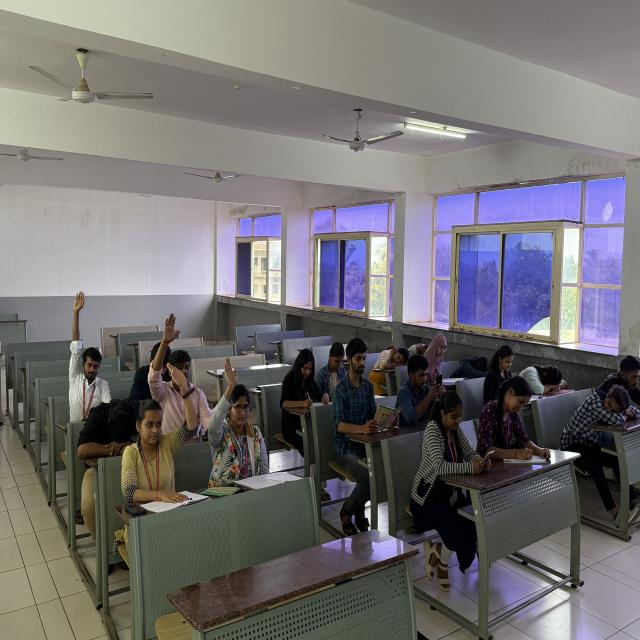Hand Rising: (132, 355, 202, 507), (212, 348, 275, 496), (144, 300, 213, 434), (65, 285, 117, 447)
Reading: (334, 332, 404, 461), (417, 332, 470, 392)
Sleeping: (558, 381, 640, 462), (75, 388, 138, 478), (516, 360, 580, 402), (369, 340, 413, 389)
Using Phone: (407, 392, 498, 531)
Writing: (475, 373, 555, 472), (276, 346, 332, 426)
